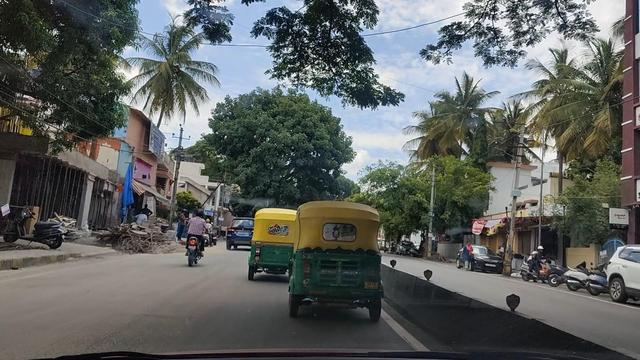LMV: (298, 203, 385, 322), (159, 209, 218, 272), (252, 213, 298, 283)
RoadDamages: (64, 286, 195, 351)
